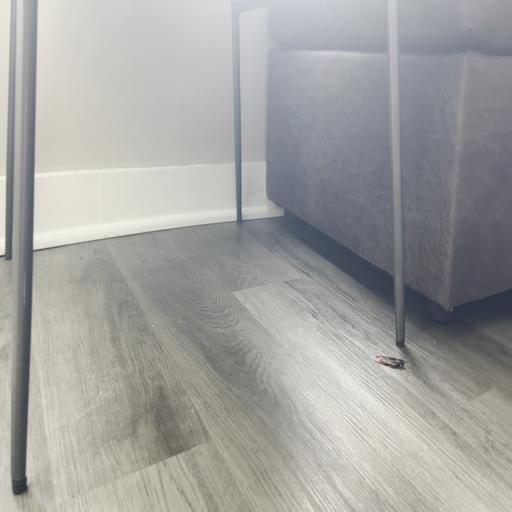cockroach: (375, 355, 405, 370)
